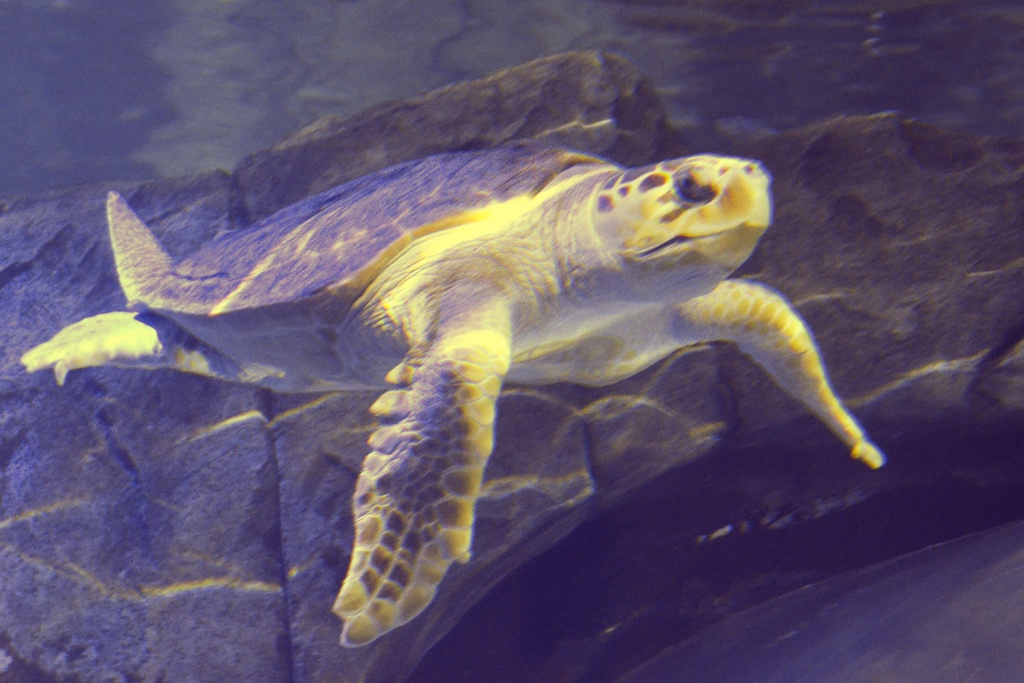Sea turtles: (14, 142, 885, 652)
